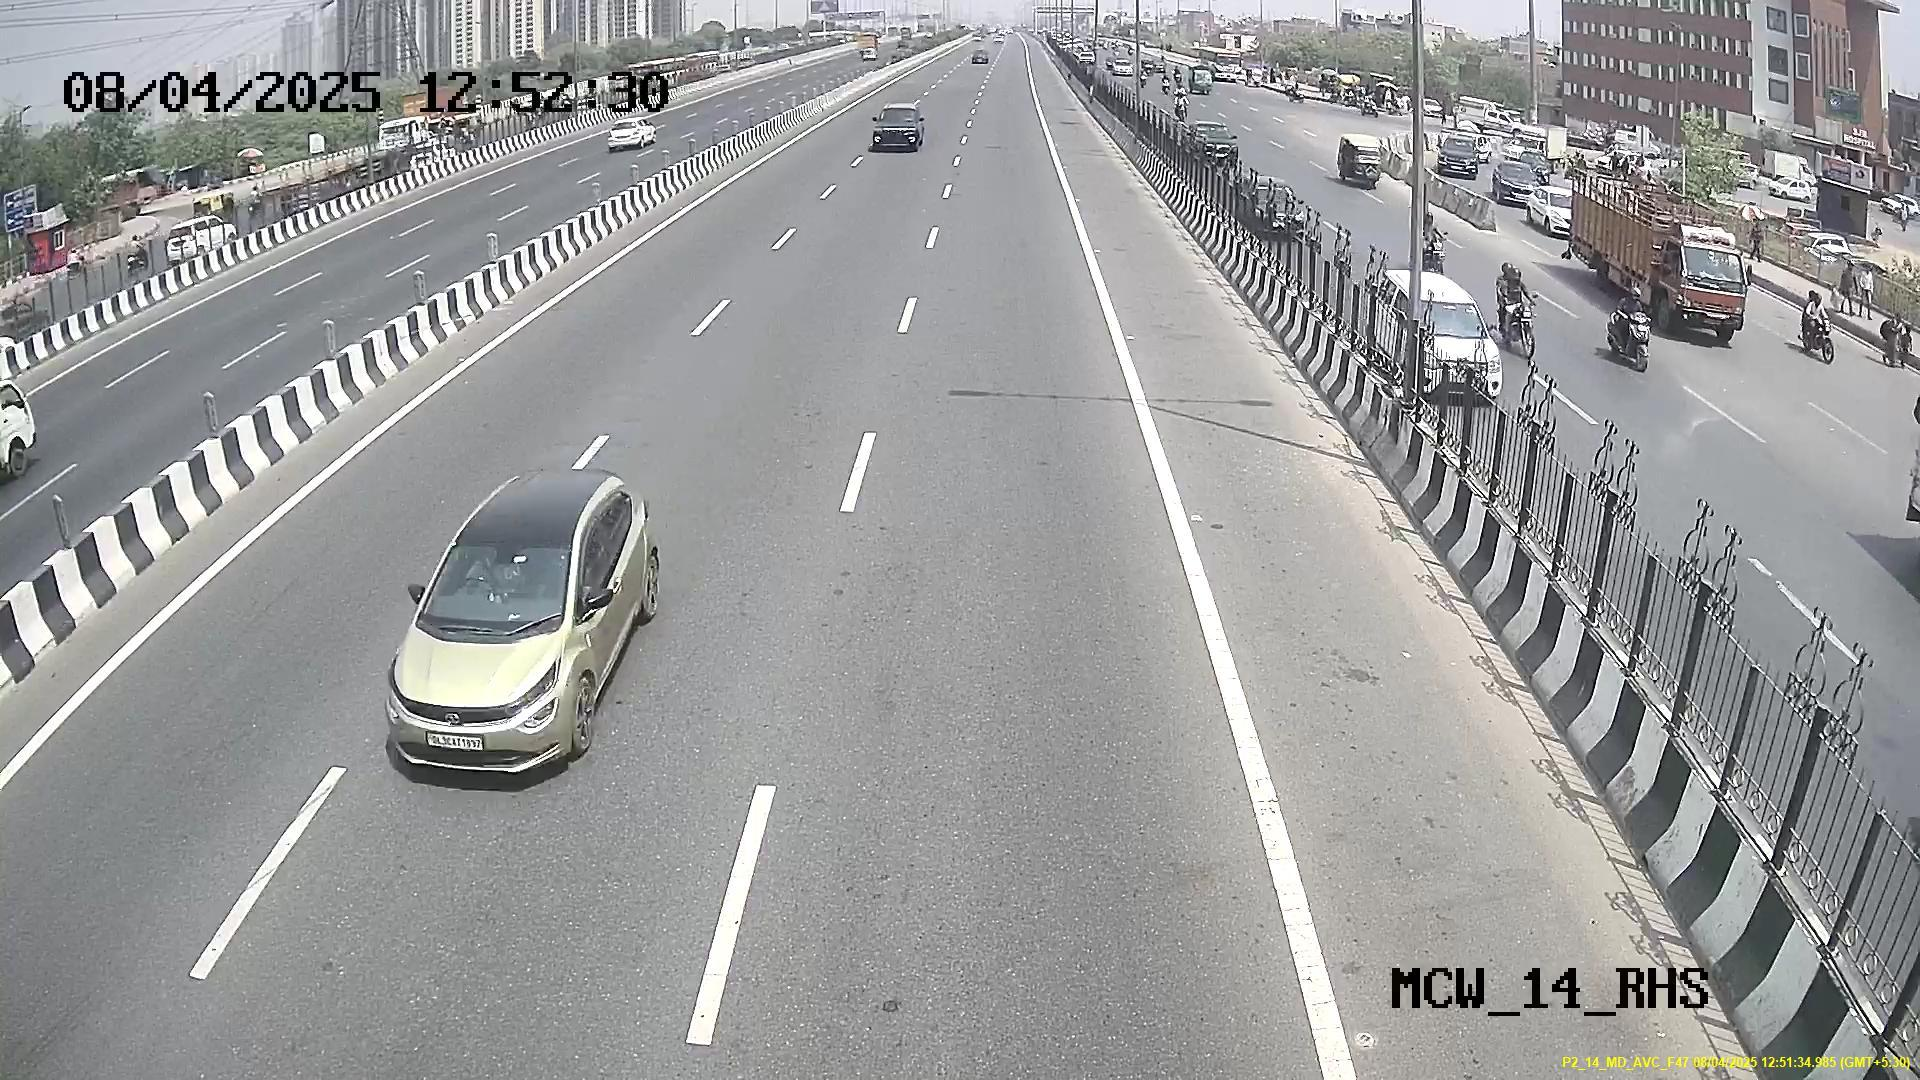car: (378, 518, 617, 779)
